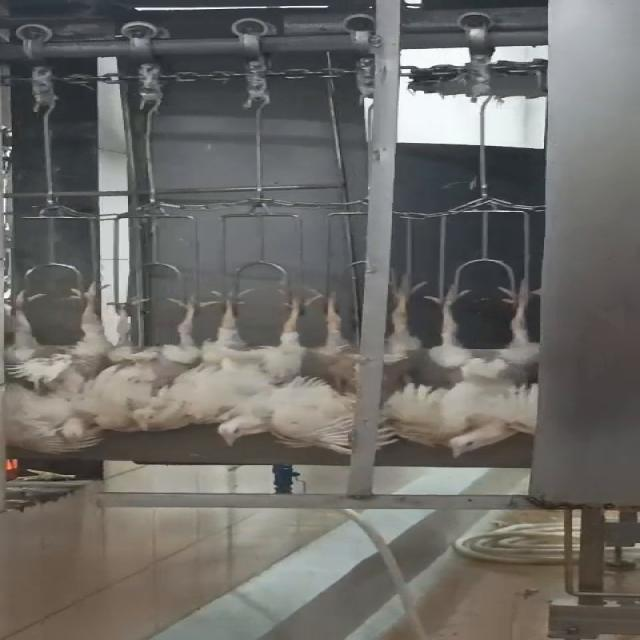chicken: (0, 273, 123, 457), (432, 279, 544, 464), (199, 279, 320, 446), (89, 279, 211, 436), (380, 270, 440, 437)
